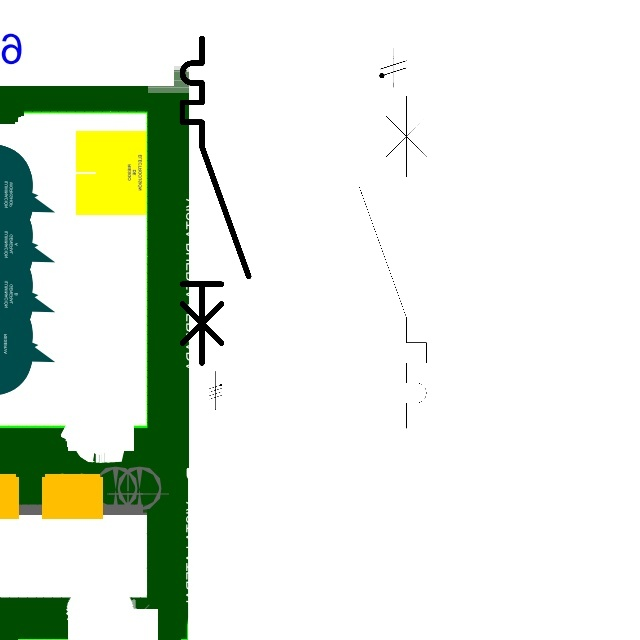interruptor_termomagnetico: (350, 87, 435, 436), (174, 30, 257, 372)
